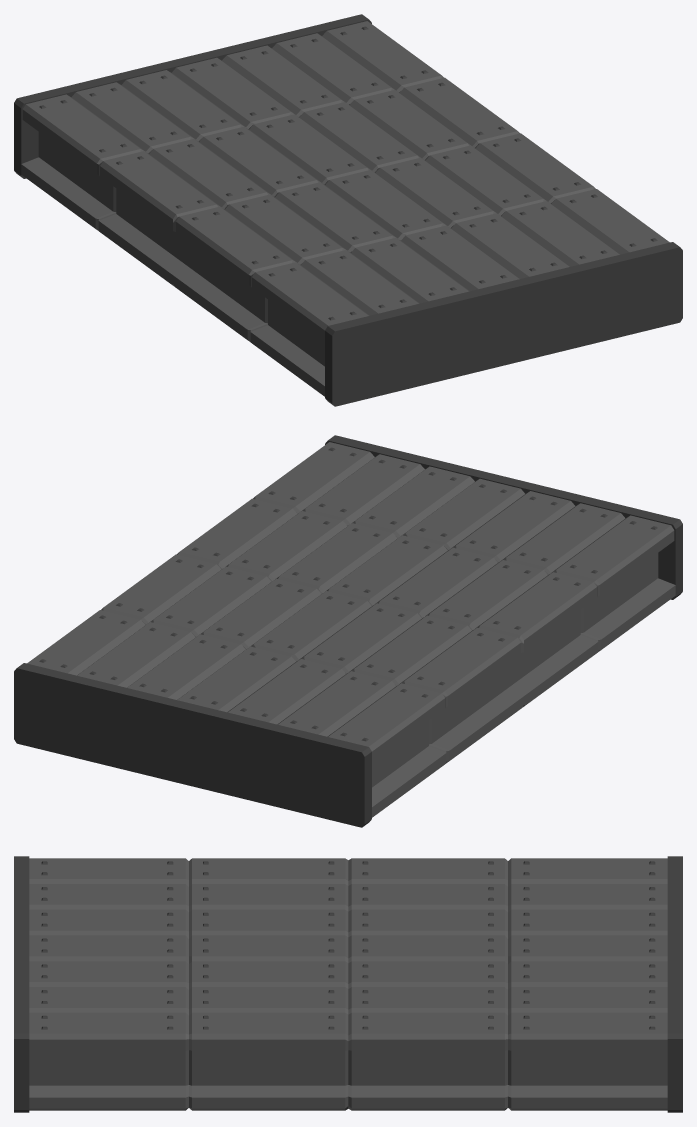
Rendered from MetalFlooring.fbx.
3 renders of one model, top to bottom at view 1: azimuth 30°, elevation 25°; view 2: azimuth 150°, elevation 25°; view 3: azimuth 270°, elevation 25°, orthographic. The views are drawn at different scales.
Visible parts, largest first — view 1: Cube; view 2: Cube; view 3: Cube.
Part boxes in pixels (x1,y1,x2,y2): Cube: (14, 14, 682, 406); Cube: (14, 435, 682, 827); Cube: (14, 856, 682, 1112).
Size of the model in its own units: 200 by 41.23 by 314.
